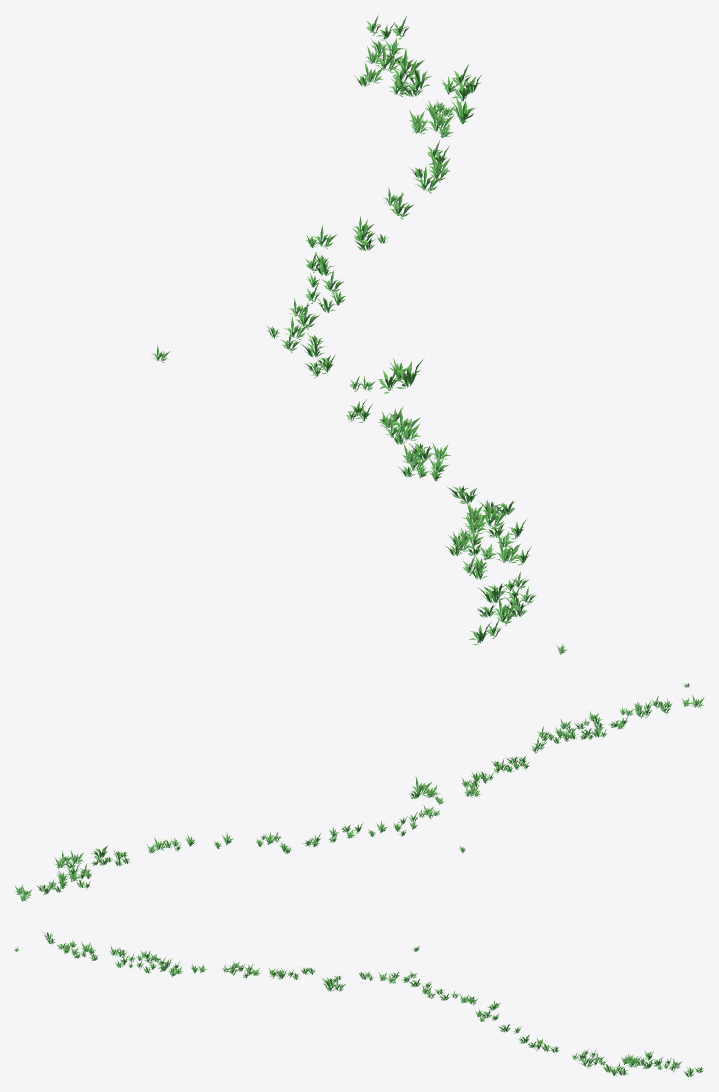
Rendered from area_02_2.FBX.
3 views of the same model, one above another, from view 1: azimuth 30°, elevation 25°; view 2: azimuth 150°, elevation 25°; view 3: azimuth 270°, elevation 25° (orthographic). The views are drawn at different scales.
Parts seen in each view (by area): view 1: area_02_2; view 2: area_02_2; view 3: area_02_2.
Part boxes in pixels (left/top/right/bottom): area_02_2: left=151, top=15, right=568, bottom=654; area_02_2: left=15, top=683, right=704, bottom=901; area_02_2: left=14, top=931, right=703, bottom=1076.
Bounding box in the file's own units: 34.42 × 1.64 × 70.68.
